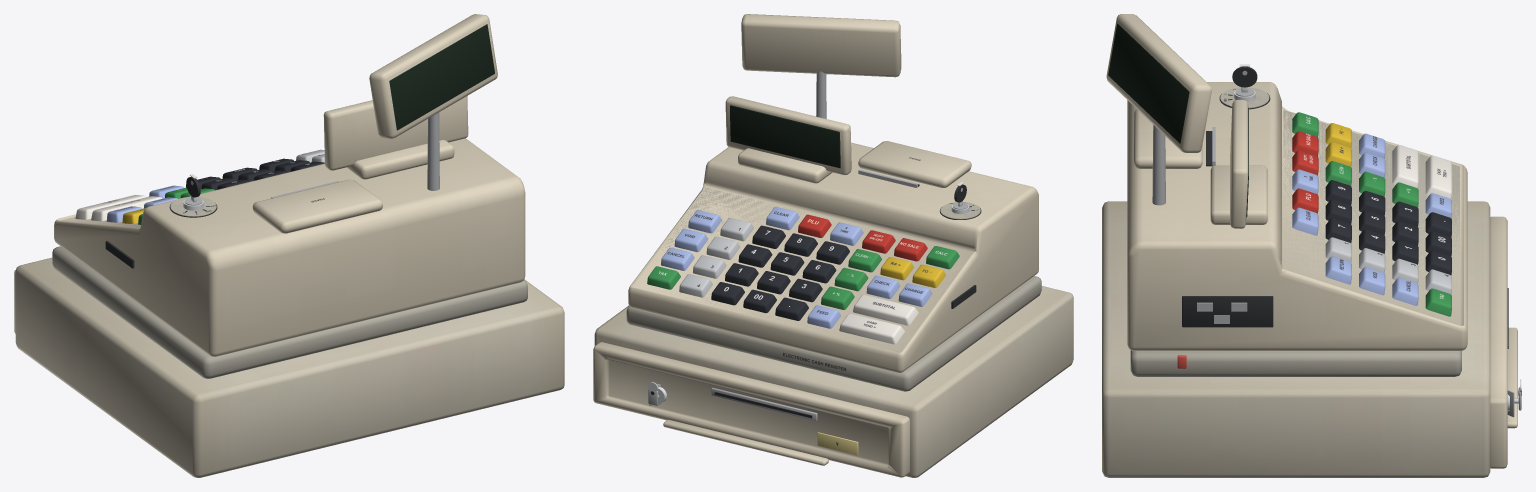
Rendered from register.glb.
3 renders of one model, left to right at view 1: azimuth 30°, elevation 25°; view 2: azimuth 150°, elevation 25°; view 3: azimuth 270°, elevation 25°, orthographic. The views are drawn at different scales.
Parts seen in each view (by area): view 1: RegWedge, RegCase, RegFootSlab, RegCustWindow, RegDisplay, RegPaperCover, RegCustDisplay, RegDisplayBase, RegStalk; view 2: RegWedge, RegCase, RegDrawerFront, RegCustDisplay, RegFootSlab, RegDisplayWindow, RegPaperCover, RegPanelPlate, RegDisplay, RegDisplayBase, RegDrawerLip, KeyCap_SUBTOTAL (+38 smaller); view 3: RegCase, RegWedge, RegFootSlab, RegPanelPlate, RegDrawerFront, RegCustWindow, RegCustDisplay, RegSockets, RegDisplayBase, RegDisplay, RegPaperCover, KeyCap_SUBTOTAL (+38 smaller).
Part boxes in pixels (bbox=[...]): RegWedge: bbox=[54, 138, 525, 356]; RegCase: bbox=[15, 257, 564, 477]; RegFootSlab: bbox=[52, 246, 527, 378]; RegCustWindow: bbox=[389, 24, 494, 130]; RegDisplay: bbox=[323, 96, 468, 170]; RegPaperCover: bbox=[252, 179, 382, 233]; RegCustDisplay: bbox=[369, 14, 497, 138]; RegDisplayBase: bbox=[346, 140, 454, 179]; RegStalk: bbox=[427, 112, 439, 190]; RegWedge: bbox=[628, 142, 1038, 372]; RegCase: bbox=[594, 286, 1073, 477]; RegDrawerFront: bbox=[593, 342, 909, 477]; RegCustDisplay: bbox=[741, 14, 901, 77]; RegFootSlab: bbox=[626, 276, 1041, 391]; RegDisplayWindow: bbox=[730, 105, 840, 168]; RegPaperCover: bbox=[858, 141, 971, 187]; RegPanelPlate: bbox=[662, 187, 966, 351]; RegDisplay: bbox=[725, 96, 851, 175]; RegDisplayBase: bbox=[738, 148, 832, 183]; RegDrawerLip: bbox=[663, 419, 828, 465]; KeyCap_SUBTOTAL: bbox=[853, 294, 918, 325]; RegCase: bbox=[1102, 201, 1490, 477]; RegWedge: bbox=[1127, 82, 1467, 350]; RegFootSlab: bbox=[1130, 350, 1461, 376]; RegPanelPlate: bbox=[1283, 110, 1459, 324]; RegDrawerFront: bbox=[1490, 216, 1507, 468]; RegCustWindow: bbox=[1108, 23, 1189, 143]; RegCustDisplay: bbox=[1106, 14, 1211, 152]; RegSockets: bbox=[1182, 296, 1273, 327]; RegDisplayBase: bbox=[1210, 165, 1267, 224]; RegDisplay: bbox=[1230, 99, 1248, 228]; RegPaperCover: bbox=[1134, 109, 1202, 168]; KeyCap_SUBTOTAL: bbox=[1392, 144, 1418, 188].
Size of the model in its own units: 0.4 by 0.3679 by 0.3675.
27 materials, 4 textured.
